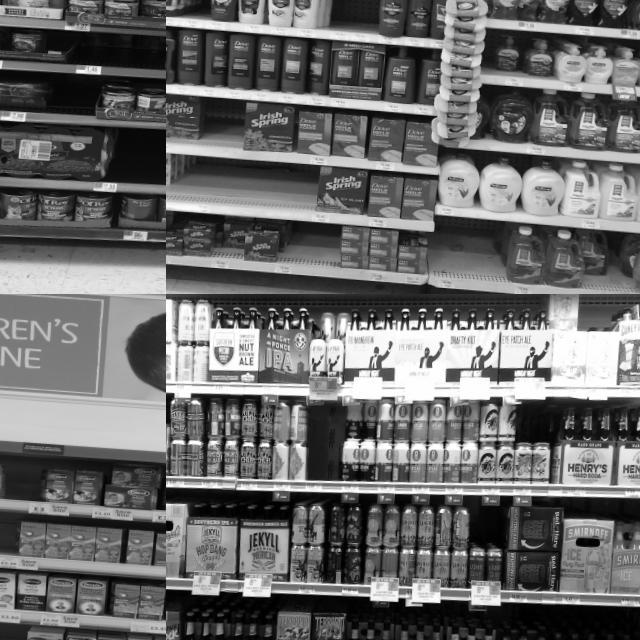void: (191, 156, 314, 221), (432, 214, 496, 290), (74, 34, 164, 78), (111, 125, 166, 196), (306, 409, 342, 493), (289, 220, 341, 278), (202, 97, 245, 159), (48, 77, 96, 125), (6, 457, 42, 511), (353, 0, 378, 41), (328, 0, 353, 40), (0, 513, 17, 566), (186, 0, 210, 28)
